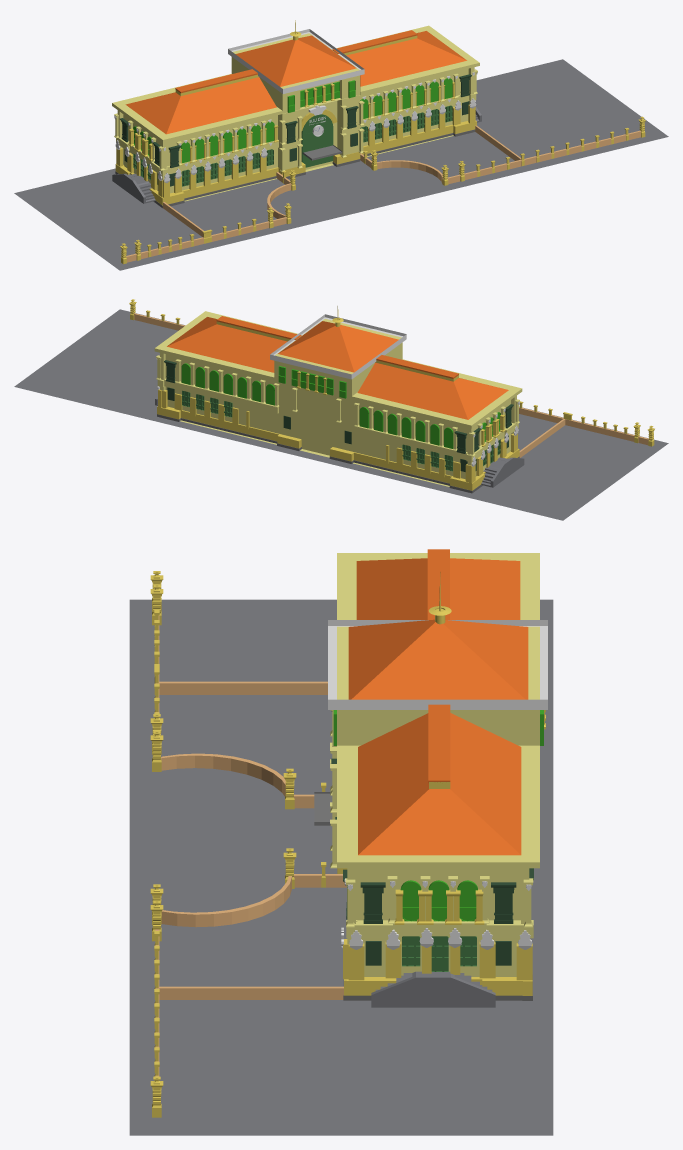
The model's file is Sai_Gon_Centre_Post_Office.glb.
3 views of the same model, one above another, from view 1: azimuth 30°, elevation 25°; view 2: azimuth 150°, elevation 25°; view 3: azimuth 270°, elevation 25° (orthographic). The views are drawn at different scales.
Parts seen in each view (by area): view 1: base, floor_3, left_roof, gate_wall, wall, top_roof, right_roof, high_column.001, lower_wall_1, arched_window_floor_2, wall_floor_1.001, big_wall (+15 smaller); view 2: base, wall, floor_3, left_roof, top_roof, right_roof, arched_window_floor_2, lower_wall_1, high_column.001, wall_floor_1.001, middle_wall, gate_wall (+12 smaller); view 3: base, right_roof, floor_3, top_roof, gate_wall, left_roof, wall, eaves, stairs, top_roof_bars, wall_floor_1.001, gate_high_column (+10 smaller).
Boxes of the visible parts, bbox=[...] form: base: bbox=[14, 59, 668, 270]; floor_3: bbox=[112, 25, 479, 142]; left_roof: bbox=[125, 77, 276, 134]; gate_wall: bbox=[126, 125, 641, 262]; wall: bbox=[117, 67, 474, 201]; top_roof: bbox=[235, 35, 356, 86]; right_roof: bbox=[346, 31, 466, 86]; high_column.001: bbox=[114, 69, 477, 172]; lower_wall_1: bbox=[115, 120, 476, 205]; arched_window_floor_2: bbox=[133, 78, 452, 163]; wall_floor_1.001: bbox=[116, 104, 475, 197]; big_wall: bbox=[278, 67, 359, 169]; base: bbox=[14, 309, 668, 520]; wall: bbox=[160, 353, 516, 486]; floor_3: bbox=[154, 311, 522, 428]; left_roof: bbox=[357, 362, 508, 419]; top_roof: bbox=[278, 321, 398, 372]; right_roof: bbox=[167, 317, 287, 372]; arched_window_floor_2: bbox=[181, 363, 500, 448]; lower_wall_1: bbox=[157, 406, 519, 490]; high_column.001: bbox=[156, 355, 519, 456]; wall_floor_1.001: bbox=[158, 389, 517, 483]; middle_wall: bbox=[157, 378, 518, 462]; gate_wall: bbox=[134, 313, 648, 457]; base: bbox=[129, 599, 553, 1135]; right_roof: bbox=[358, 713, 521, 855]; floor_3: bbox=[337, 553, 539, 868]; top_roof: bbox=[348, 619, 528, 699]; gate_wall: bbox=[155, 615, 346, 1076]; left_roof: bbox=[356, 558, 520, 619]; wall: bbox=[347, 868, 529, 976]; eaves: bbox=[328, 620, 547, 709]; stairs: bbox=[371, 971, 495, 1007]; top_roof_bars: bbox=[427, 549, 450, 783]; wall_floor_1.001: bbox=[343, 939, 532, 980]; gate_high_column: bbox=[150, 571, 296, 1117].
Size of the model in its own units: 119 by 28.7 by 39.92.
